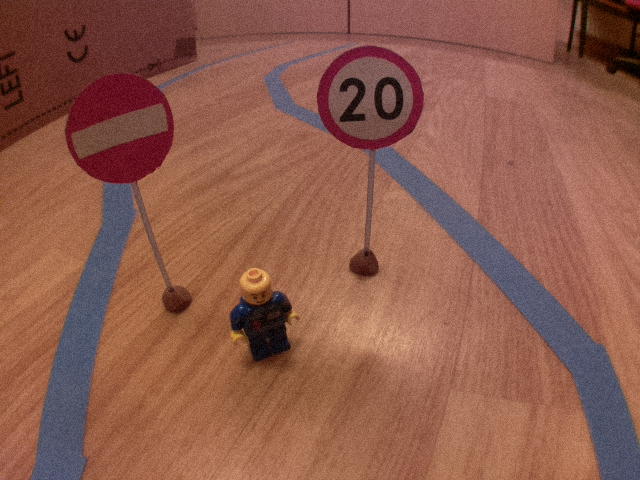LEGO_person: (228, 264, 304, 364)
ogr_20: (313, 42, 426, 150)
zakaz: (62, 70, 178, 185)
